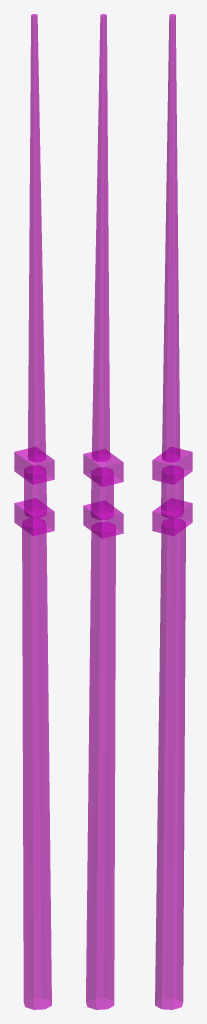
File: SM_Veh_Ship_L_Mast_Middle_01_Collision.fbx
3 renders of one model, left to right at view 1: azimuth 30°, elevation 25°; view 2: azimuth 210°, elevation 25°; view 3: azimuth 330°, elevation 25°, orthographic.
Parts seen in each view (by area): view 1: SM_Veh_Ship_L_Mast_Middle_01_Collision; view 2: SM_Veh_Ship_L_Mast_Middle_01_Collision; view 3: SM_Veh_Ship_L_Mast_Middle_01_Collision.
Part boxes in pixels (<box>): SM_Veh_Ship_L_Mast_Middle_01_Collision: <box>14,14,54,1009</box>; SM_Veh_Ship_L_Mast_Middle_01_Collision: <box>83,14,123,1009</box>; SM_Veh_Ship_L_Mast_Middle_01_Collision: <box>152,14,192,1009</box>.
Size of the model in its own units: 99.64 by 3699 by 136.
